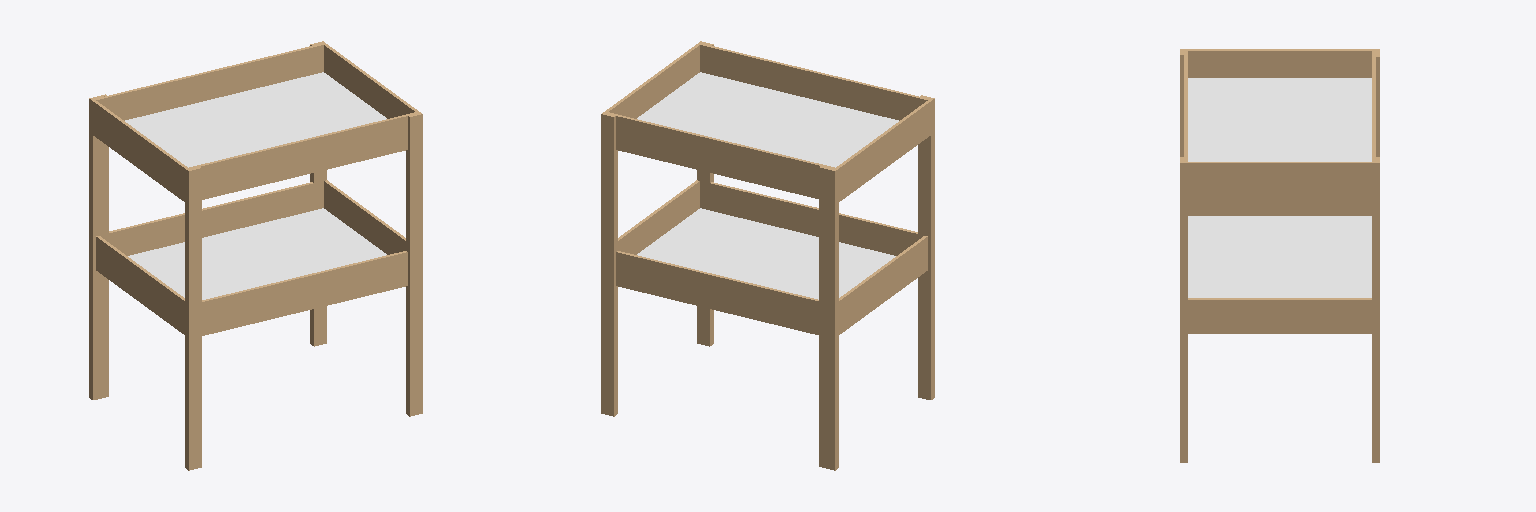
Rendered from ChangingTable_Sniglar.obj.
3 views of the same model, side by side, from view 1: azimuth 30°, elevation 25°; view 2: azimuth 150°, elevation 25°; view 3: azimuth 270°, elevation 25° (orthographic).
Visible parts, largest first — view 1: obj_0; view 2: obj_0; view 3: obj_0.
Boxes of the visible parts, x1,y1,x2,y2 form: obj_0: [89, 41, 422, 470]; obj_0: [601, 41, 934, 470]; obj_0: [1180, 49, 1379, 462].
Size of the model in its own units: 72 by 88 by 53.